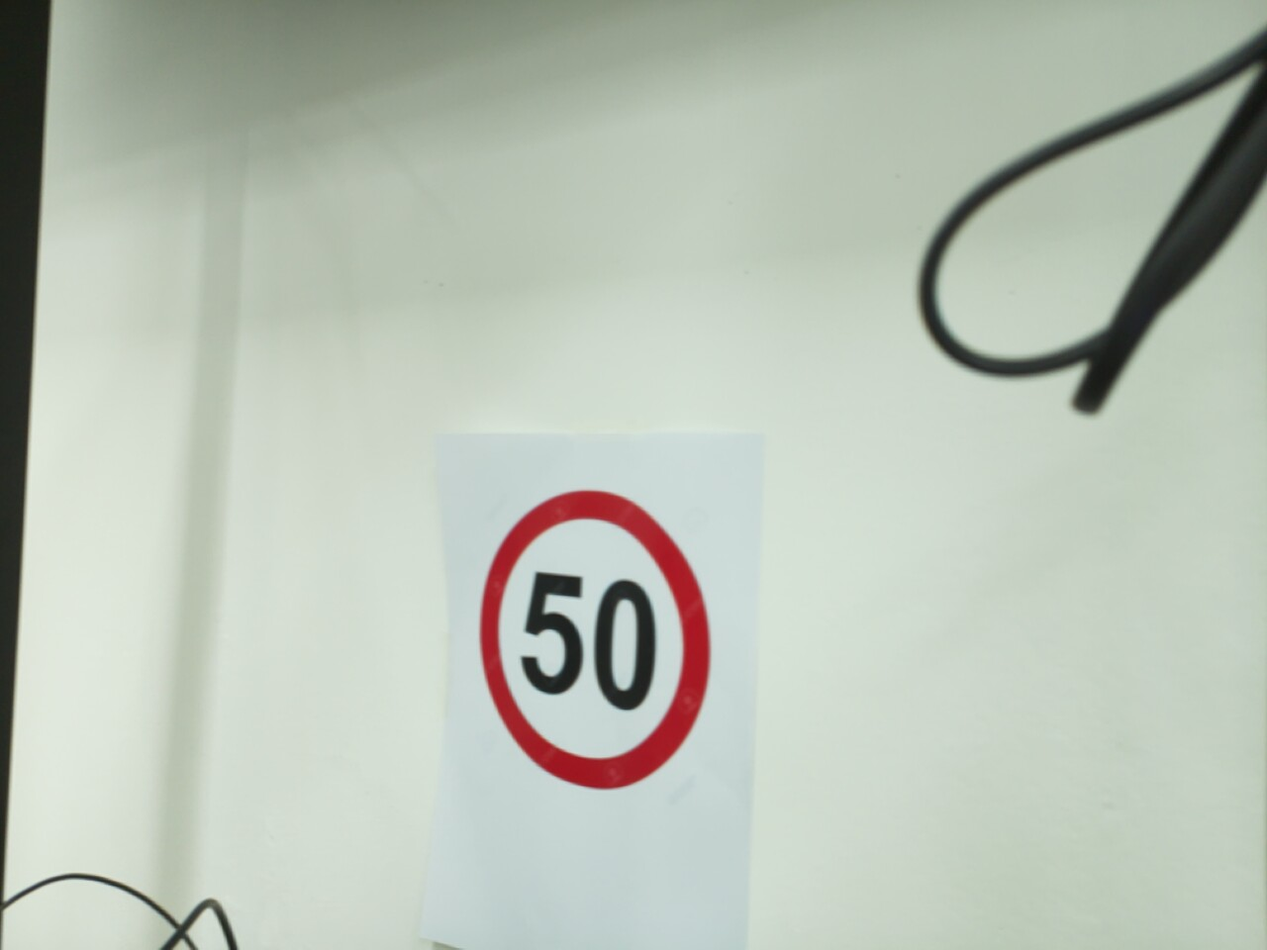speed_50: (471, 480, 719, 800)
